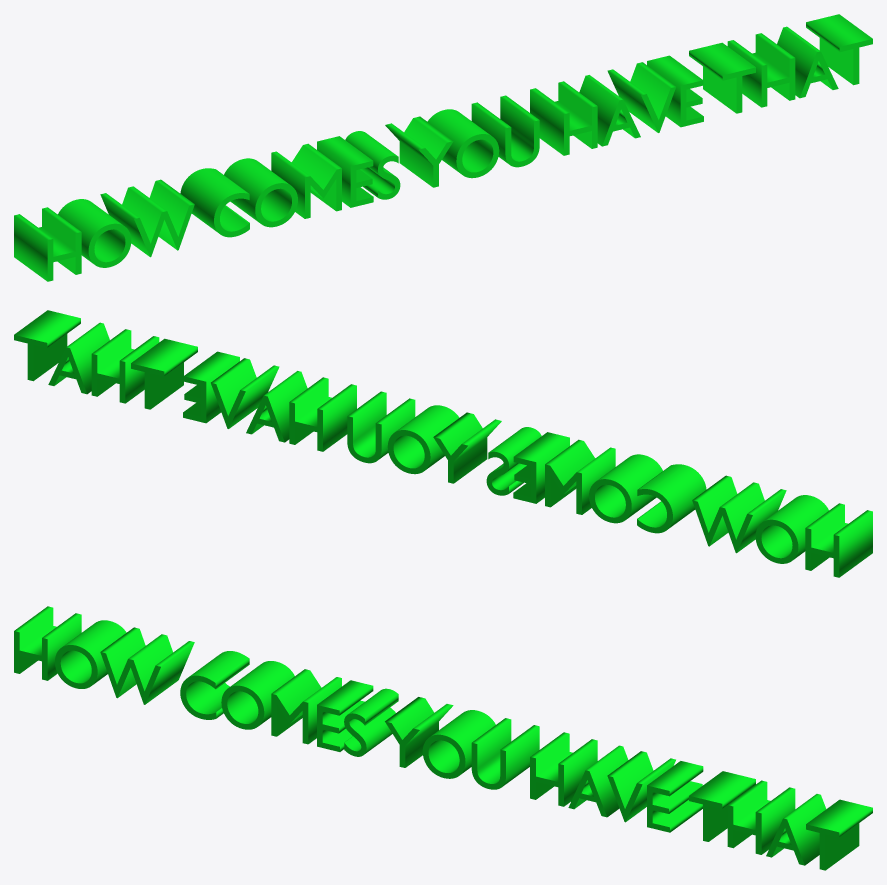
The model's file is Envy3.fbx.
The picture shows the model from 3 angles, top to bottom: view 1: azimuth 30°, elevation 25°; view 2: azimuth 150°, elevation 25°; view 3: azimuth 330°, elevation 25°; orthographic projection.
Parts seen in each view (by area): view 1: Text; view 2: Text; view 3: Text.
Part boxes in pixels (x1,y1,x2,y2): Text: (14,14,872,281); Text: (14,310,872,577); Text: (14,606,872,870).
Bounding box in the file's own units: 1412 × 70 × 100.
